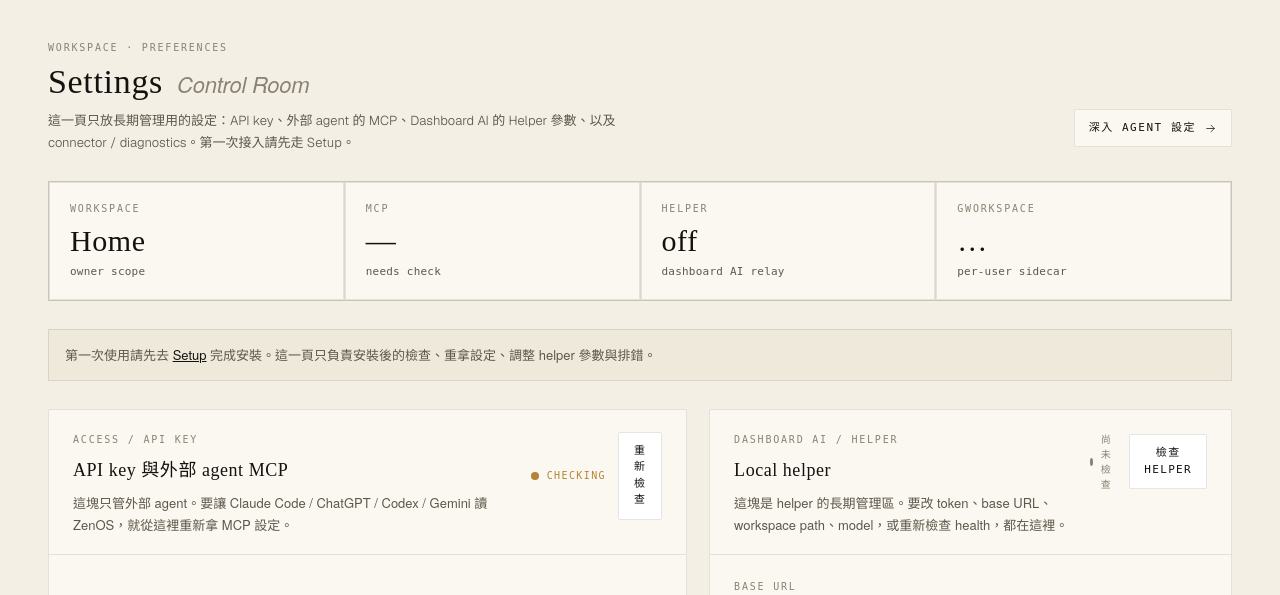
SettingsPage › checks helper health from settings page
The image size is (1280, 595).
Click the button with aria-label "檢查 Helper 連線" at (1168, 462), box [1129,434,1207,489]
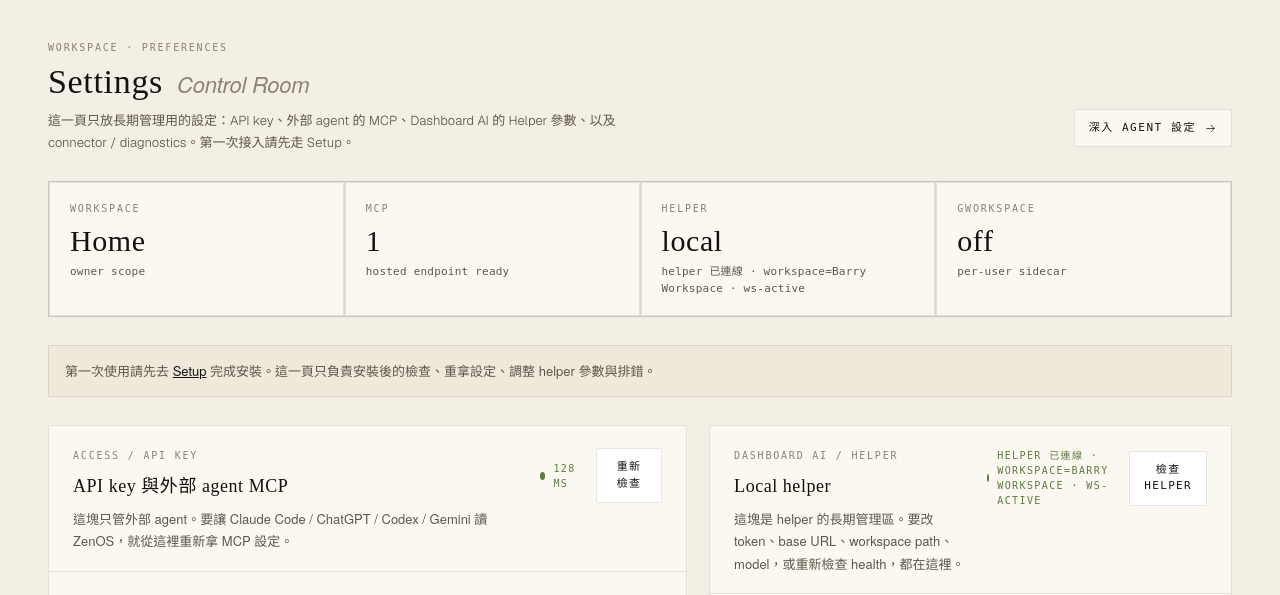
expect the text "helper 已連線 · workspace=Barry Workspace · ws-active" next to "per-user sidecar" is shown: met, box [662,265,866,295]
